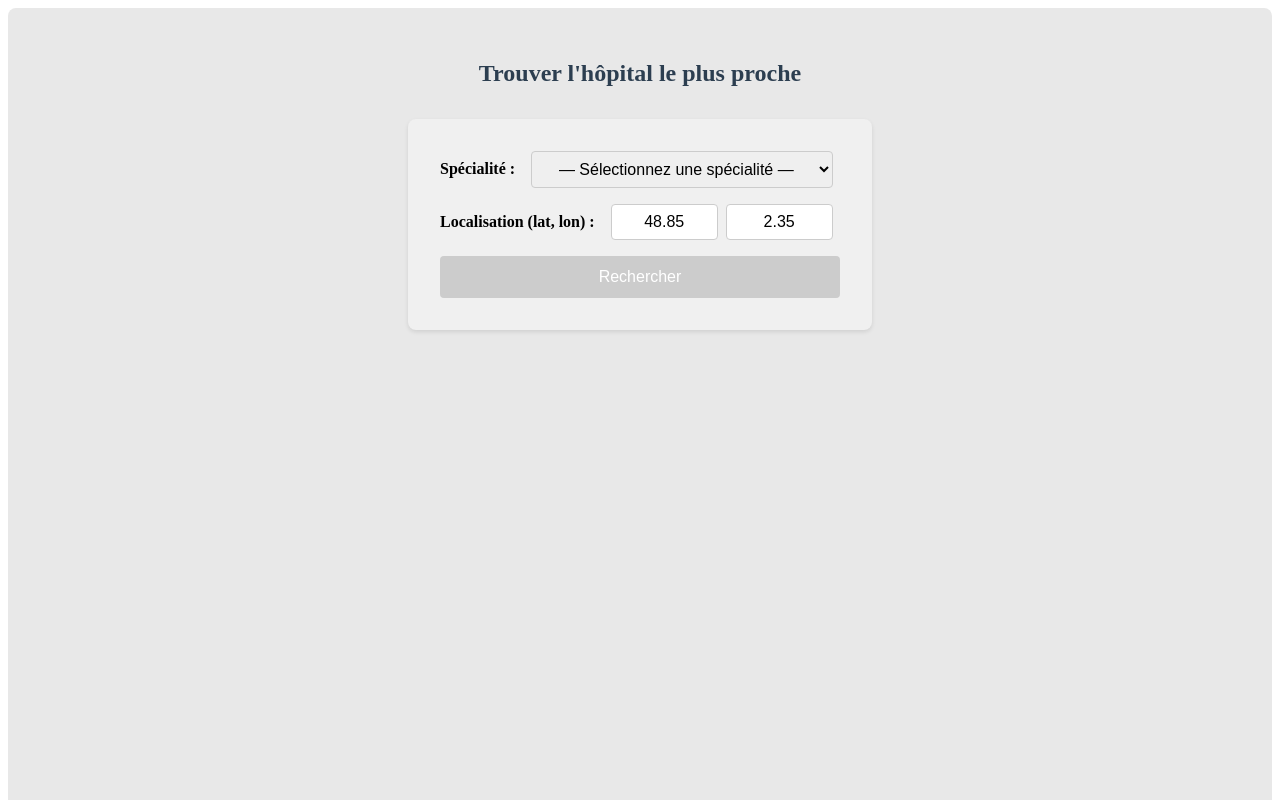
HospitalSearch › Recherche d'hôpital › affiche le nombre de lits disponibles pour la spécialité recherchée
Step 1. Select "Cardiologie" in the dropdown → (682, 169), box [531,151,834,188]
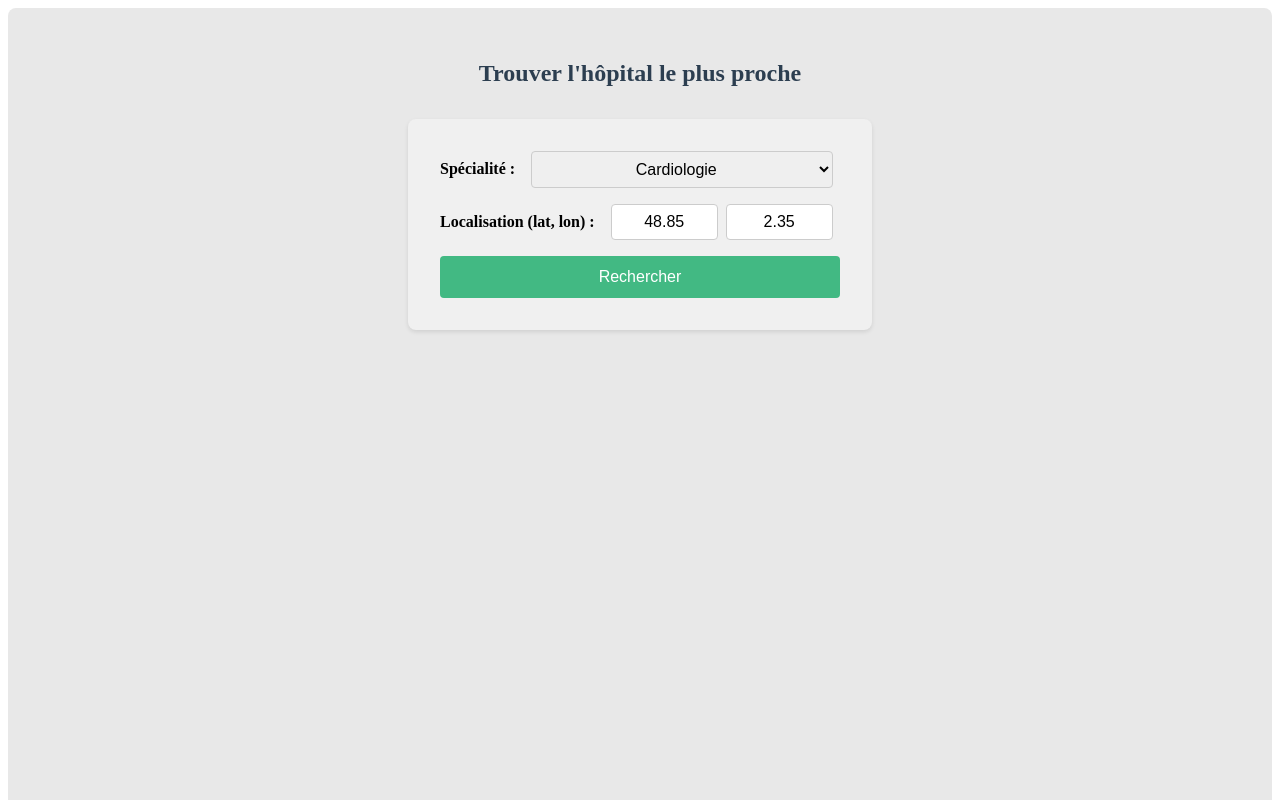
Step 2. Submit the form, box [408,119,872,330]
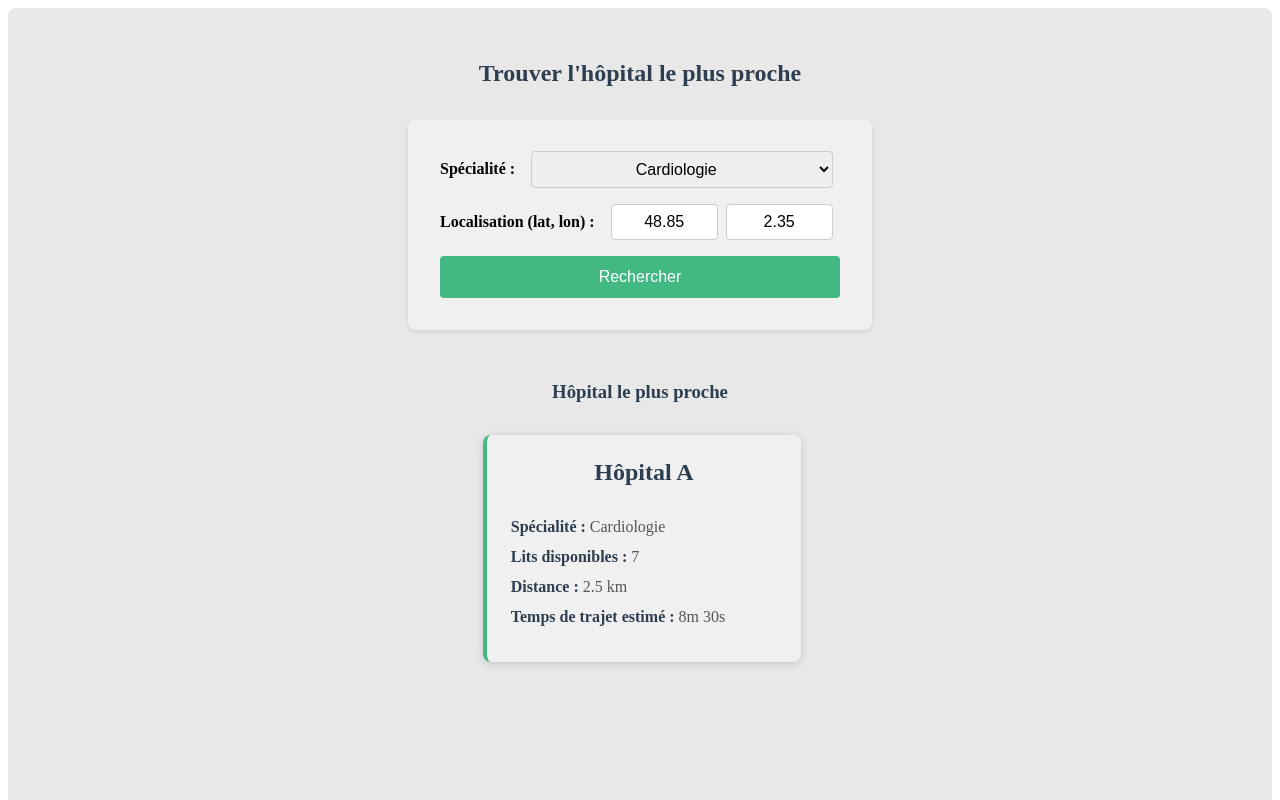
expect the text "Lits disponibles : 7" is shown: met, box [511,548,639,565]
